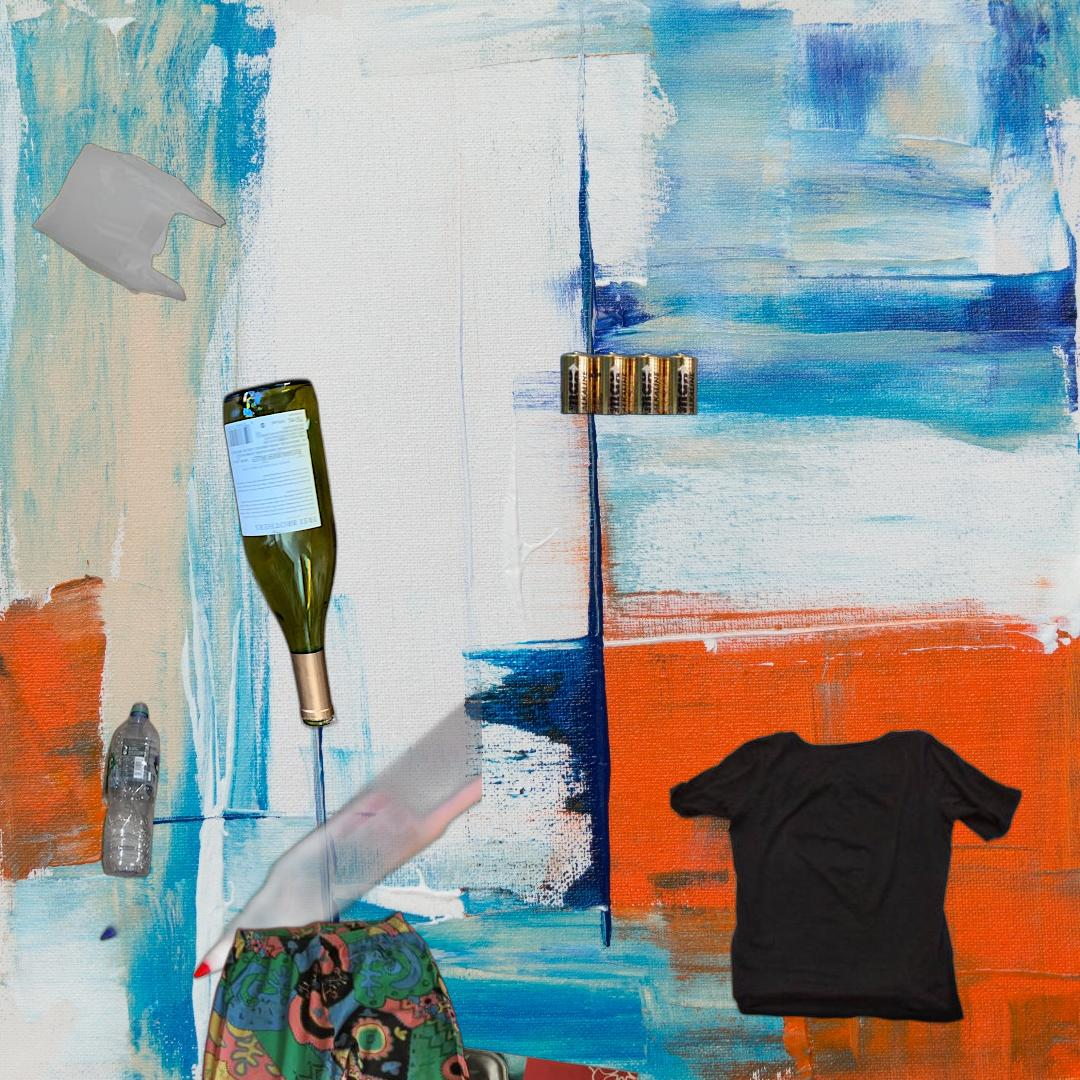battery: (557, 348, 700, 418)
clothes: (666, 725, 1025, 1026), (166, 907, 507, 1080)
glass: (218, 372, 342, 735)
paper: (198, 1008, 647, 1080)
penholder: (96, 582, 482, 1017)
plastic-bag: (30, 141, 227, 304)
plastic-bottles: (98, 698, 163, 883)
